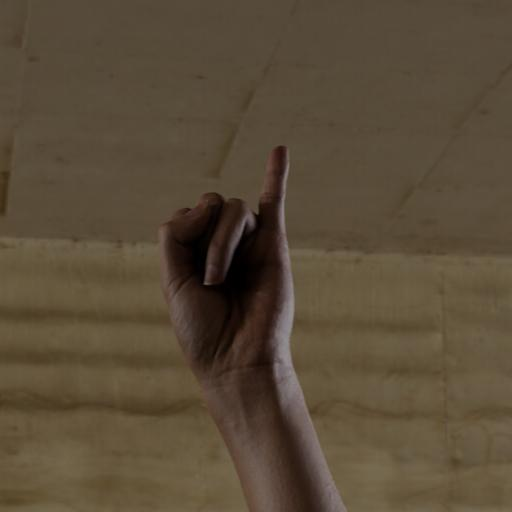I: (152, 136, 304, 389)
